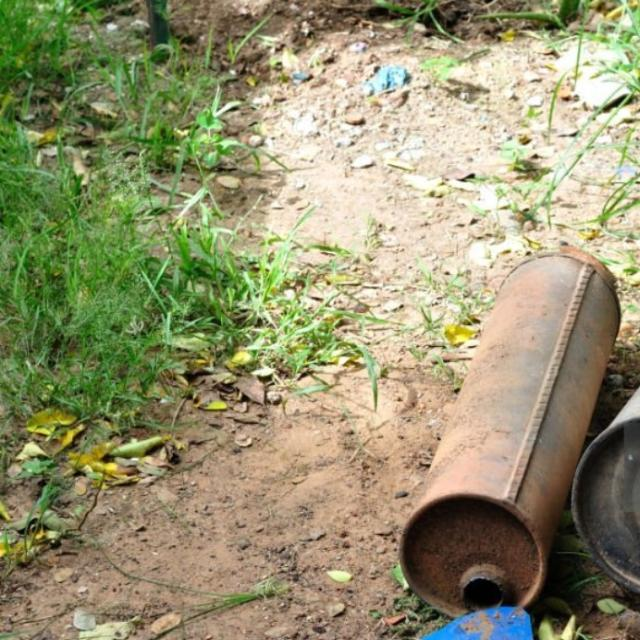Canisters: (397, 242, 626, 621), (569, 385, 640, 599)
